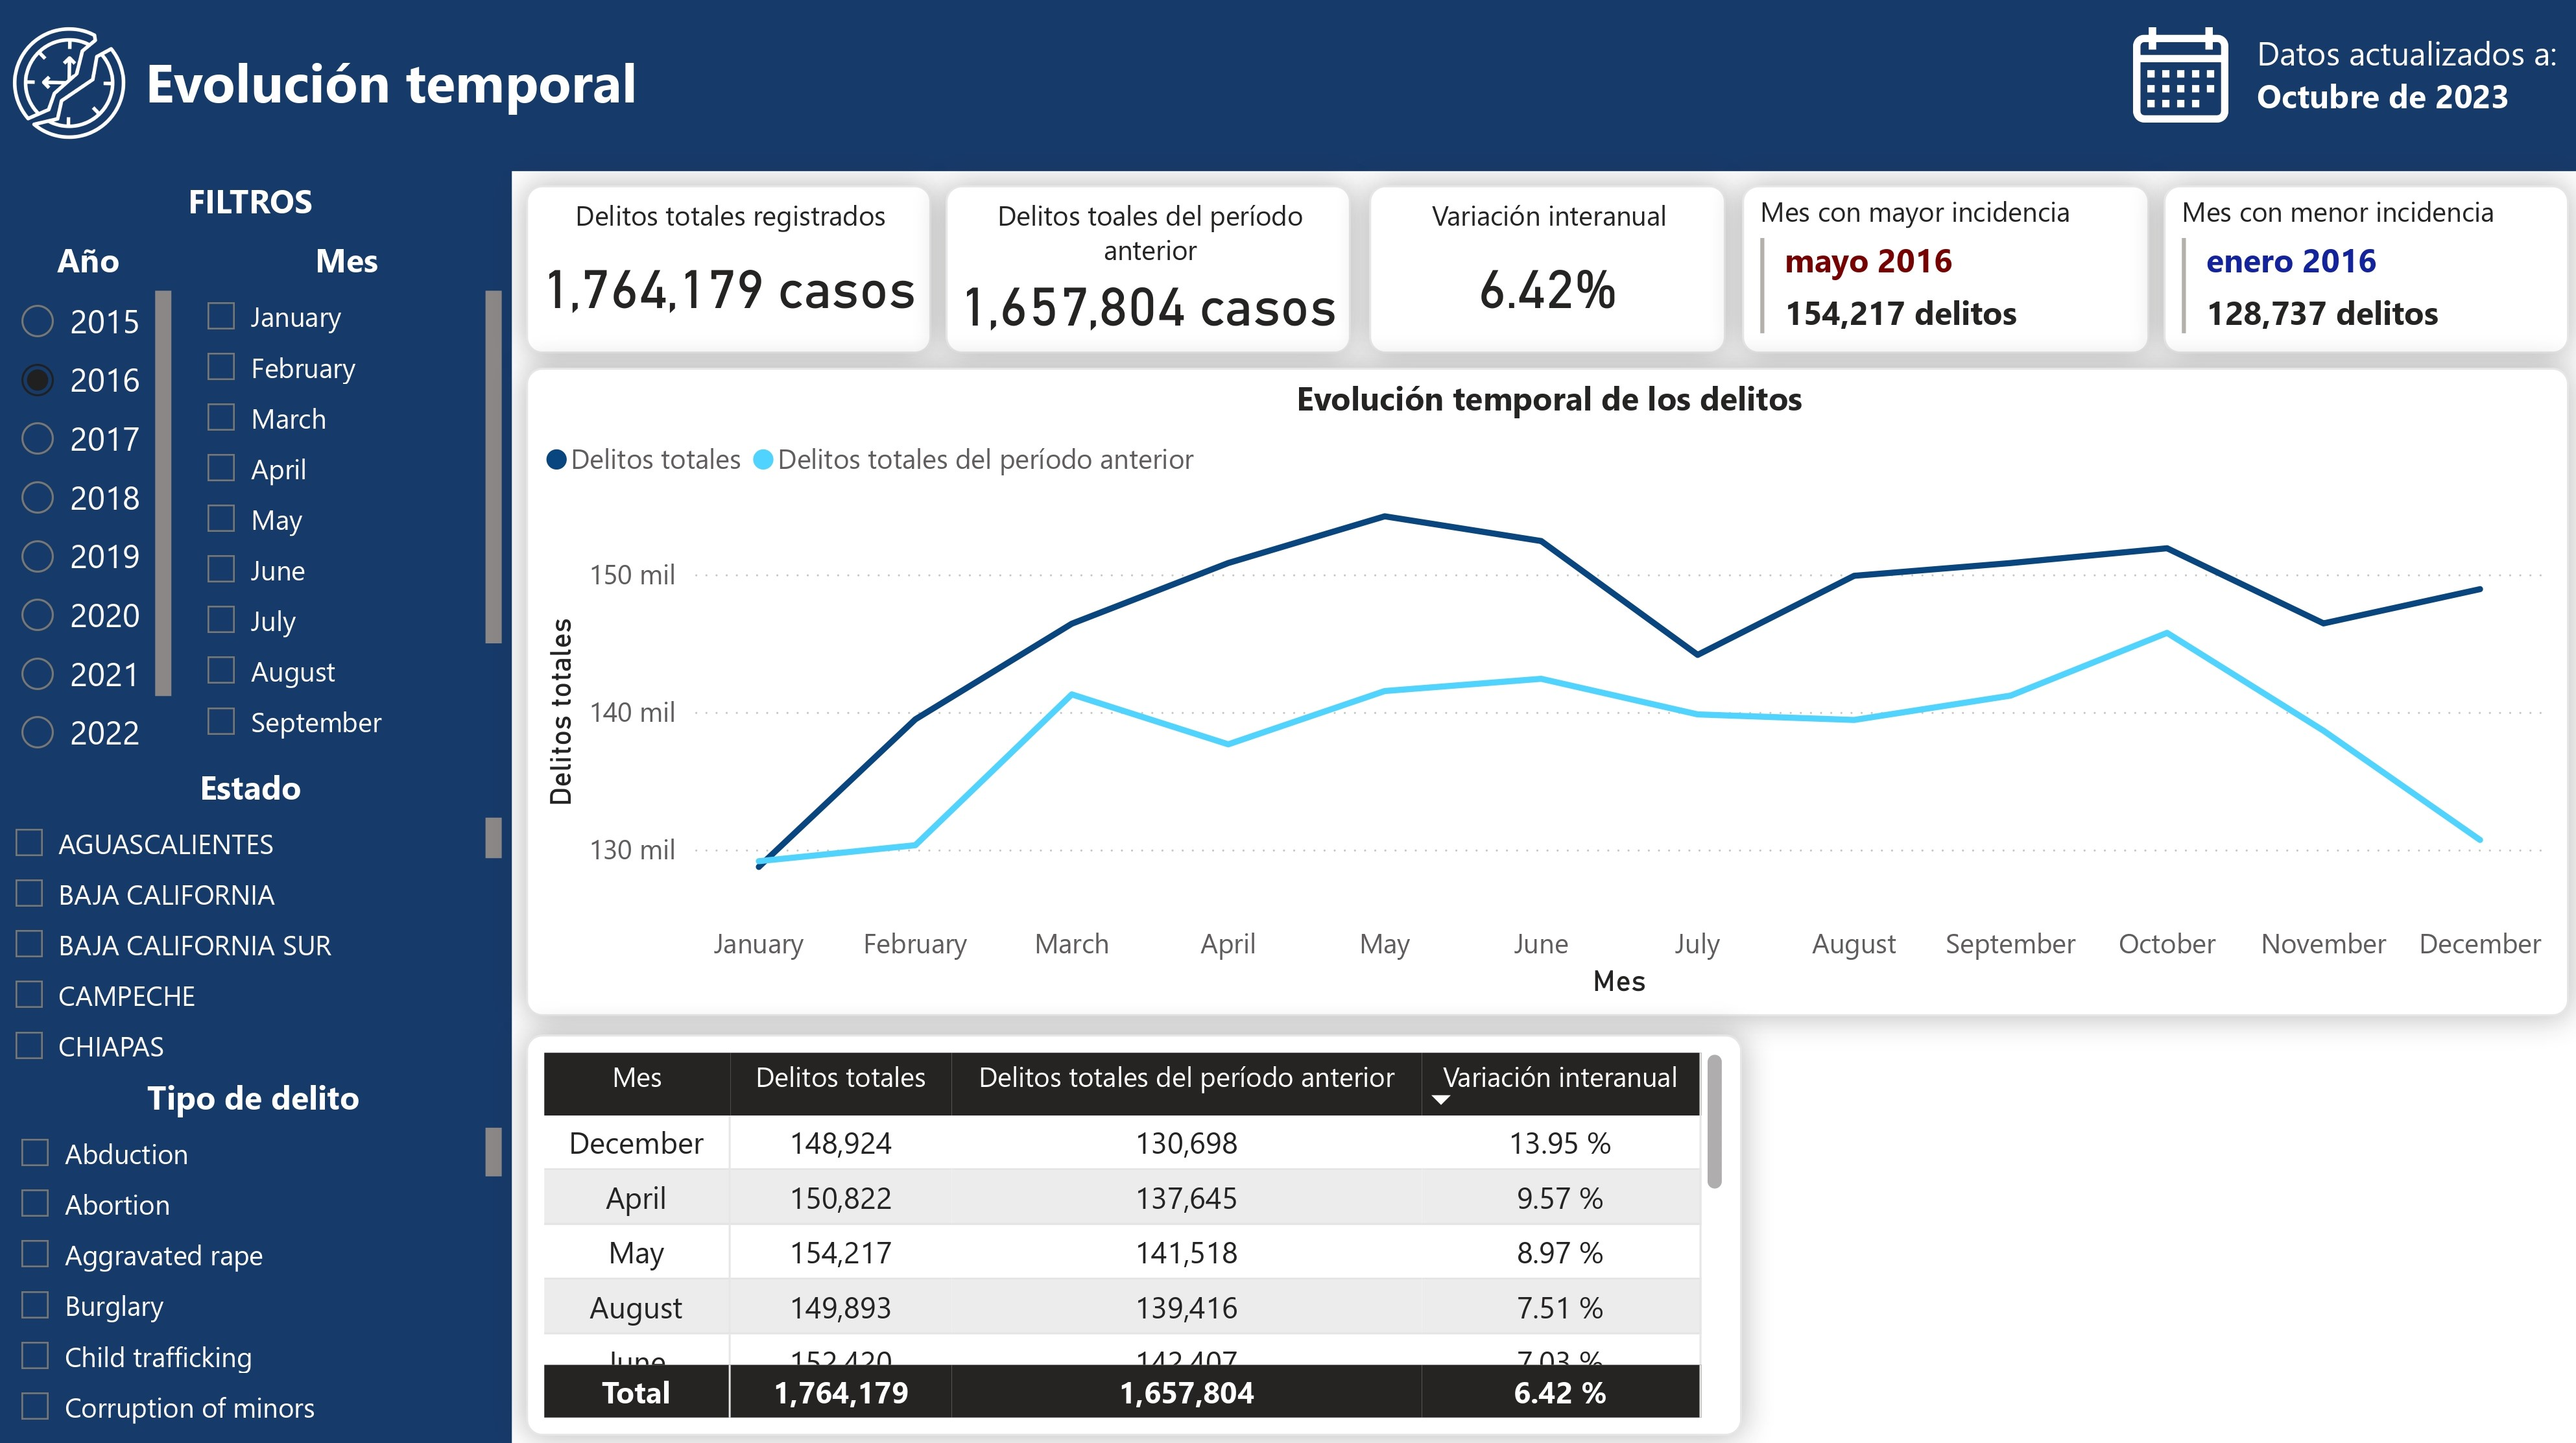

The page's visual inventory and layout, read from the dashboard file:
{"tool":"powerbi","page":{"name":"Evolución temporal","canvas":[1280,720],"ordinal":3},"visuals":[{"type":"shape","box":[0,43.2,257.8,673.9],"z":0},{"type":"shape","box":[0,0,1280,86.5],"z":1000},{"type":"slicer","title":"Estado","fields":{"Values":["dim_estado.estado"]},"box":[0,380.2,257.8,152.6],"z":2000},{"type":"slicer","title":"Tipo de delito","fields":{"Values":["dim_delito.tipo_delito"]},"box":[2.9,532.8,254.9,184.3],"z":3000},{"type":"textbox","box":[1114.4,13,165.6,60.5],"z":4000},{"type":"textbox","box":[92.2,86.4,73.4,33.1],"z":5000},{"type":"image","box":[1057.5,15.8,47.5,47.5],"z":6000},{"type":"textbox","box":[72,18.7,262.1,49],"z":7000},{"type":"slicer","title":"Año","fields":{"Values":["dim_fecha.anio"]},"box":[2.9,119.5,92.2,260.6],"z":8000},{"type":"slicer","title":"Mes","fields":{"Values":["dim_fecha.mes_nombre"]},"box":[95,119.5,162.7,260.6],"z":9000},{"type":"card","title":"Delitos totales registrados","fields":{"Values":["Medidas.Total delitos"]},"box":[265,93.6,200.2,83.5],"z":10000},{"type":"card","title":"Delitos toales del período anterior","fields":{"Values":["Medidas.Total delitos mismo período año anterior"]},"box":[472.3,93.6,200.2,83.5],"z":11000},{"type":"card","title":"Variación interanual","fields":{"Values":["Medidas.Variación % interanual"]},"box":[681.1,93.6,175.7,83.5],"z":12000},{"type":"multiRowCard","title":"Mes con mayor incidencia","fields":{"Values":["Medidas.Mes con mayor incidencia","Medidas.Delitos en el mes con mayor incidencia"]},"box":[865.4,93.6,200.2,83.5],"z":13000},{"type":"multiRowCard","title":"Mes con menor incidencia","fields":{"Values":["Medidas.Delitos en el mes con menor incidencia","Medidas.Mes con menor incidencia"]},"box":[1072.8,93.6,200.2,83.5],"z":14000},{"type":"lineChart","title":"Evolución temporal de los delitos","fields":{"Category":["dim_fecha.mes_nombre"],"Y":["Medidas.Total delitos","Medidas.Total delitos mismo período año anterior"]},"box":[265,184.3,1008,319.7],"z":15000},{"type":"pivotTable","fields":{"Rows":["dim_fecha.mes_nombre"],"Values":["Medidas.Total delitos","Medidas.Total delitos mismo período año anterior","Medidas.Variación % interanual"]},"box":[265,512.6,600.5,198.7],"z":16000},{"type":"image","box":[9,14.5,59.5,57],"z":17000}]}

Visuals, with their boxes in screenshot pixels (x1, y1, x2, y2), scaled from the page's 1280x720 canvas onto the 2576x1443 screenshot:
shape: (0,87,519,1437)
shape: (0,0,2575,173)
"Estado" slicer: (0,762,519,1067)
"Tipo de delito" slicer: (6,1067,519,1437)
textbox: (2243,26,2575,147)
textbox: (185,173,333,239)
image: (2129,32,2224,127)
textbox: (145,38,673,136)
"Año" slicer: (6,239,191,762)
"Mes" slicer: (191,239,519,762)
"Delitos totales registrados" card: (533,187,936,355)
"Delitos toales del período anterior" card: (951,187,1354,355)
"Variación interanual" card: (1371,187,1724,355)
"Mes con mayor incidencia" multiRowCard: (1741,187,2145,355)
"Mes con menor incidencia" multiRowCard: (2159,187,2562,355)
"Evolución temporal de los delitos" lineChart: (533,370,2562,1010)
pivotTable - dim_fecha.mes_nombre x Medidas.Total delitos: (533,1027,1742,1425)
image: (18,29,138,143)
